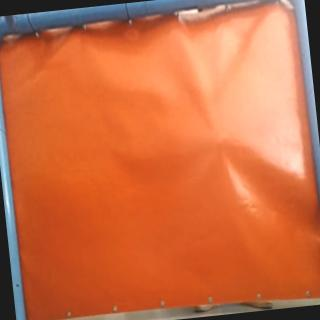Hit-hRxx: (214, 134, 232, 150)
